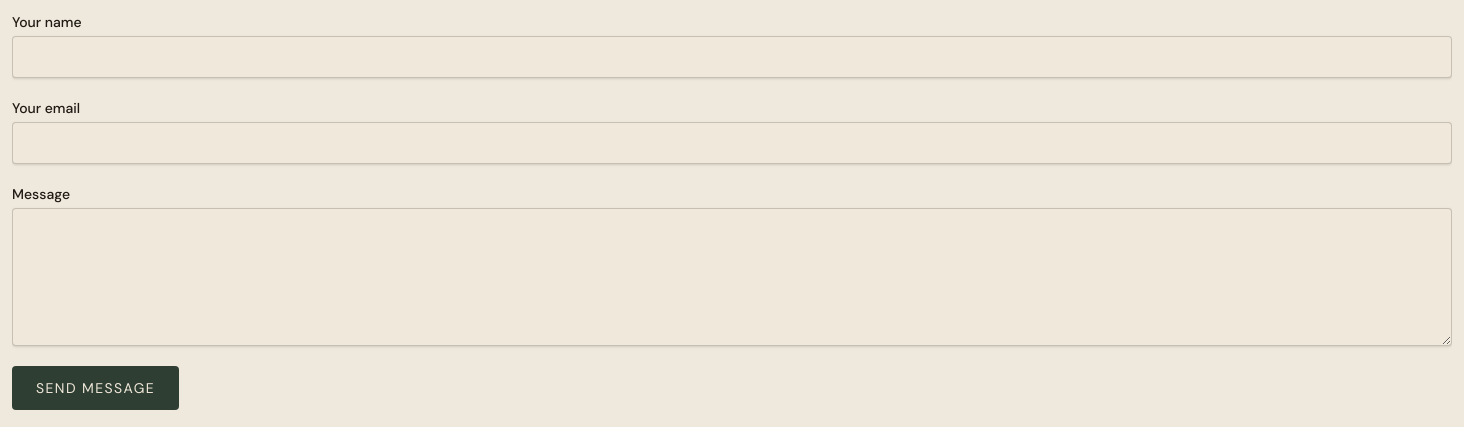
ContactForm › shows a thank-you message after a successful submission
Type "Real Visitor" into the field labelled "Your name" at (732, 57), box [12,36,1452,78]
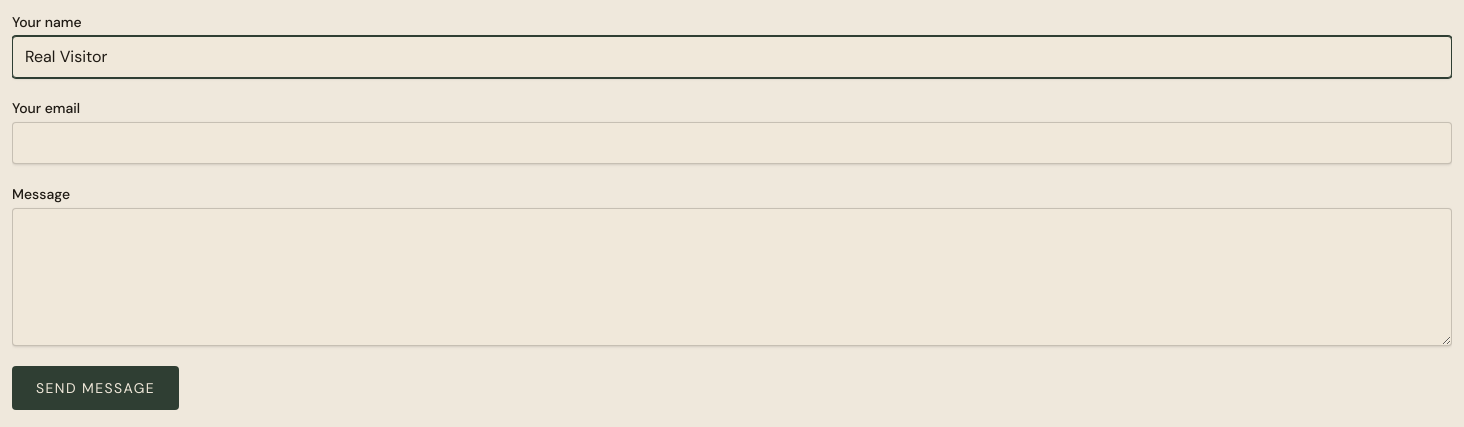
Type "visitor@example.com" into the field labelled "Your email" at (732, 143), box [12,122,1452,164]
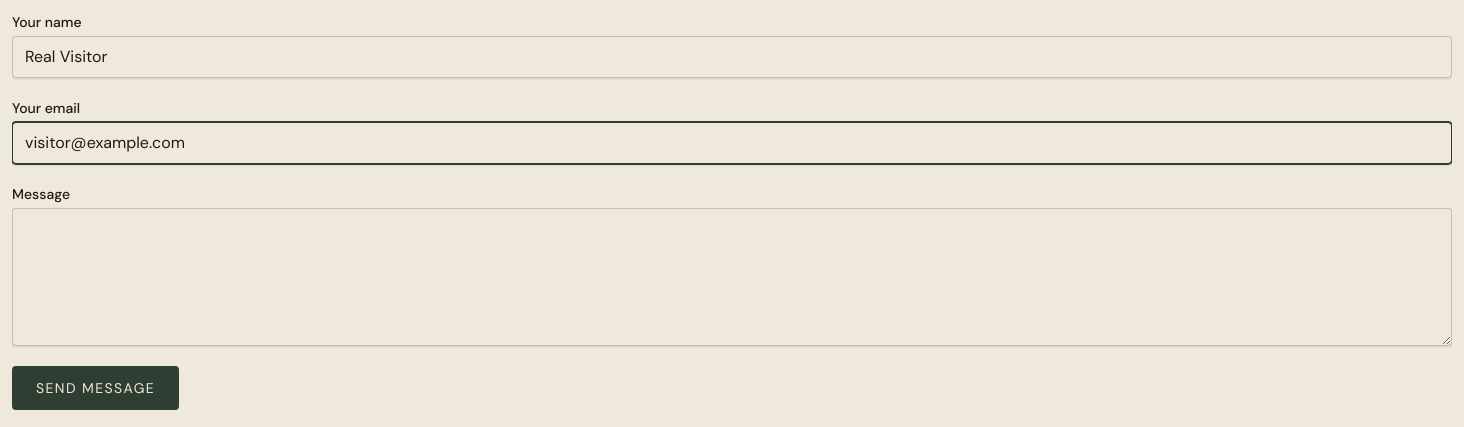
Type "Hello — I'd love to come by tomorrow morning if you have any cardamom buns left." into the text box labelled "Message" at (732, 277), box [12,208,1452,346]
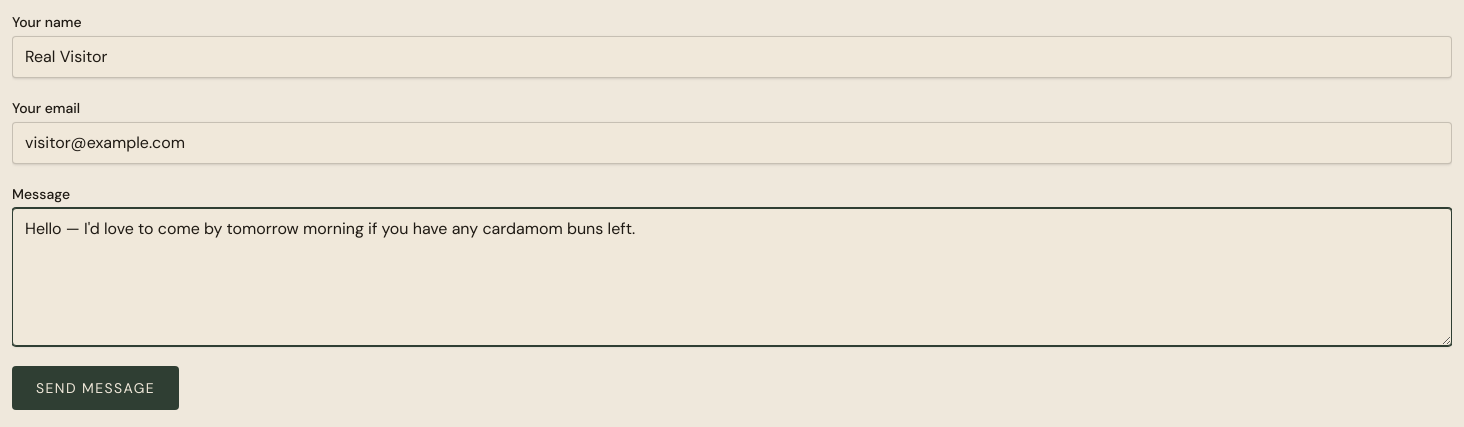
Click the button "Send message" at (96, 388), box [12,366,179,410]
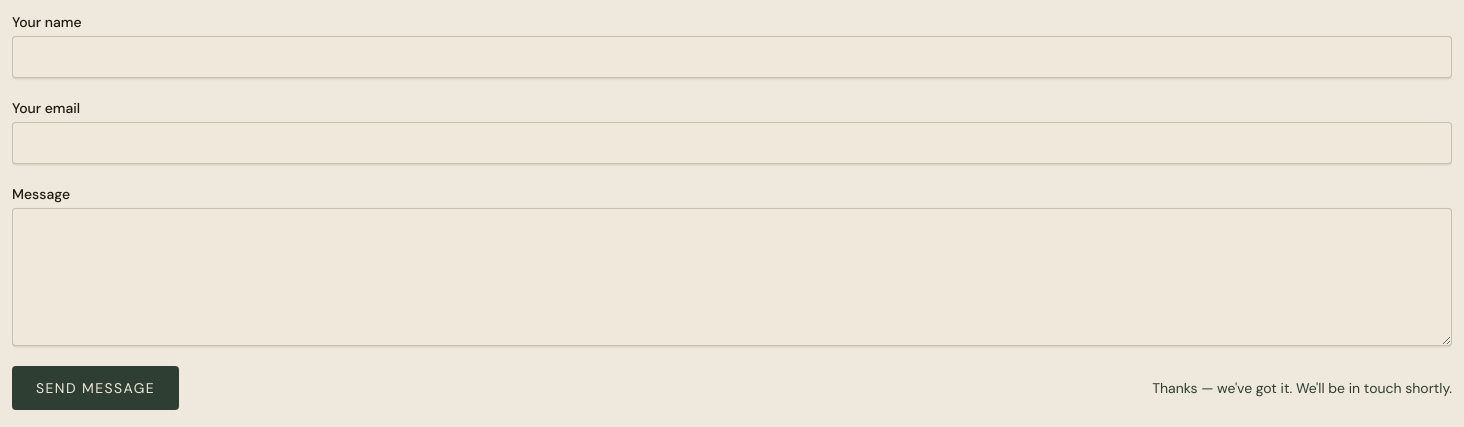
Now the text "Thanks — we've got it. We'll be in touch shortly." is shown, box [1152,379,1452,397]
